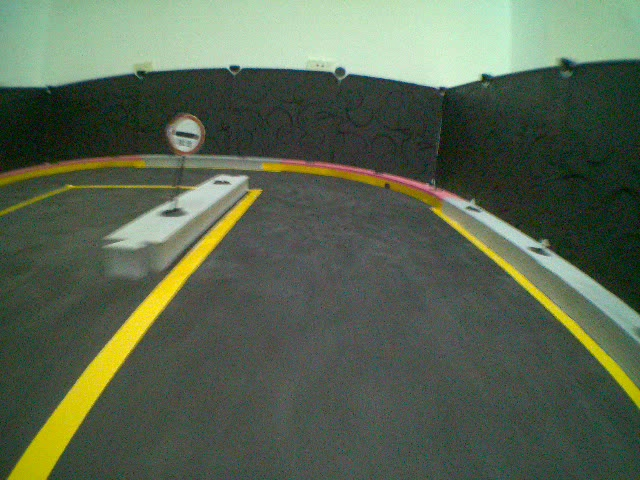Check: (165, 112, 206, 153)
